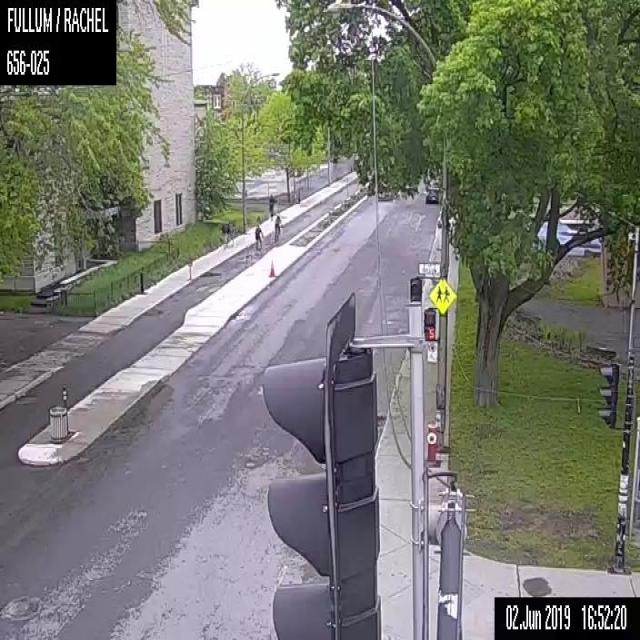construction: (268, 258, 276, 276)
cyclist: (254, 223, 264, 254), (273, 214, 281, 242)
pedestrian: (268, 192, 274, 221)
vehicle: (425, 185, 440, 204)
